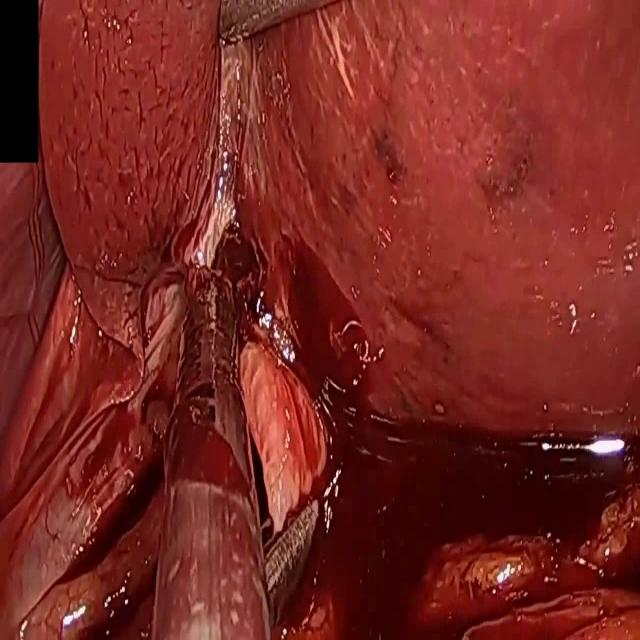surgical-area: (0, 0, 640, 639)
surgical-tool: (149, 268, 271, 639)
